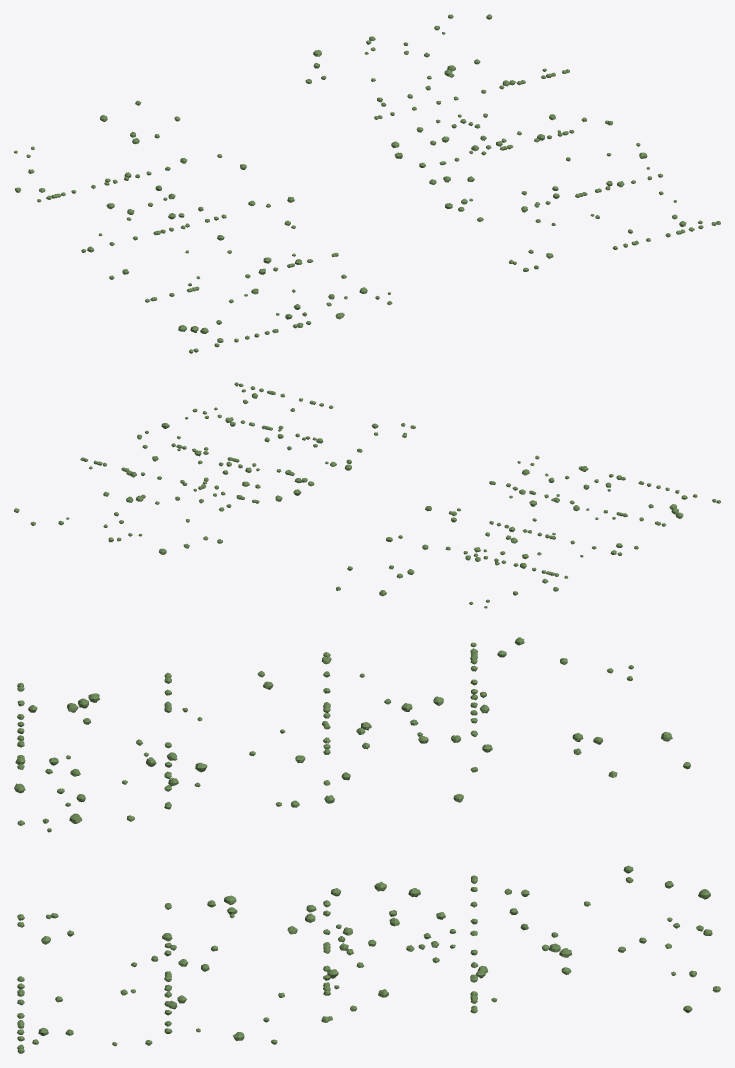
Rendered from E7-7_Arbustos.fbx.
The picture shows the model from 3 angles, top to bottom: view 1: azimuth 30°, elevation 25°; view 2: azimuth 150°, elevation 25°; view 3: azimuth 270°, elevation 25°; orthographic projection. The views are drawn at different scales.
Visible parts, largest first — view 1: E7-7_Arbustos; view 2: E7-7_Arbustos; view 3: E7-7_Arbustos.
Part boxes in pixels (x1,y1,x2,y2): E7-7_Arbustos: (14, 14, 720, 353); E7-7_Arbustos: (14, 382, 720, 608); E7-7_Arbustos: (14, 637, 720, 1053).
Size of the model in its own units: 235 by 16.2 by 187.
